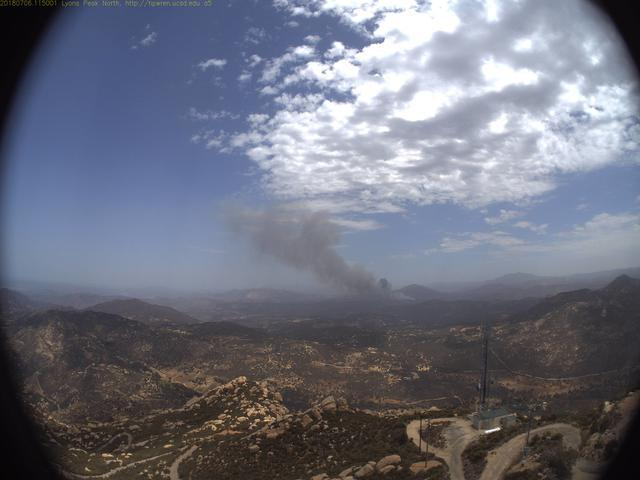smoke: (215, 168, 441, 327)
